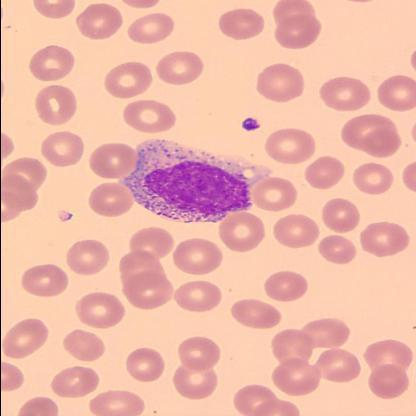Promyelocyte: (117, 139, 268, 224)
